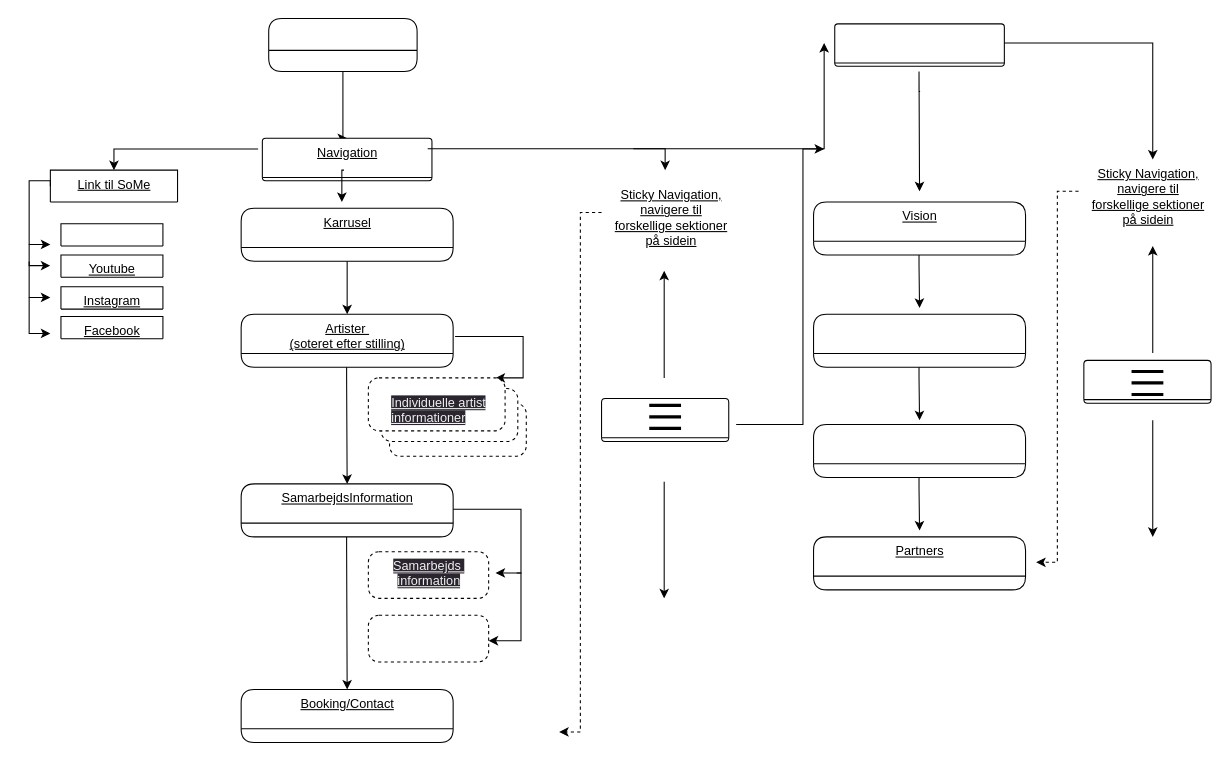
The diagram is 1230 pixels wide and 761 high, and some of its shapes have lost their labels. Here are the shapes that lost their labels. From the top down, the box of each, then its label:
(268, 17, 417, 72): Forside
(834, 23, 1004, 66): Community
(60, 223, 163, 246): Spotify
(812, 313, 1026, 367): Four Factors
(812, 423, 1026, 478): About
(367, 614, 489, 662): Tidligere samarbejde
